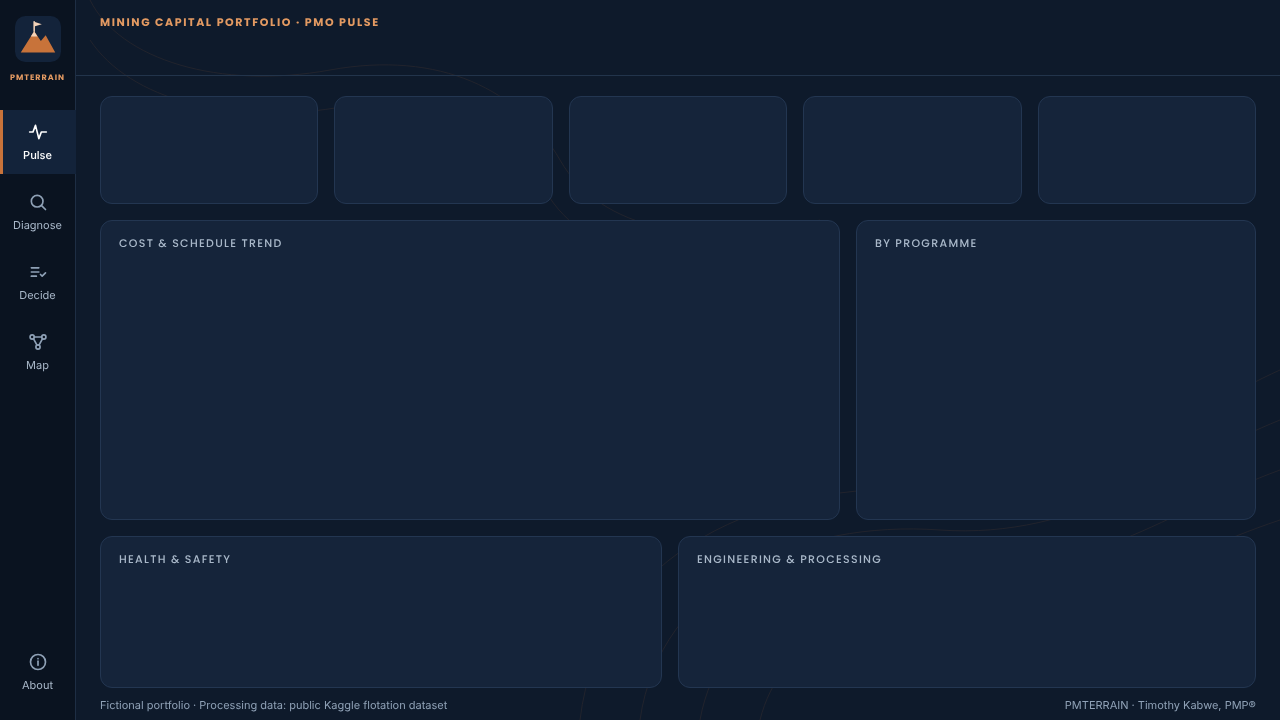

The page's visual inventory and layout, read from the dashboard file:
{"tool":"powerbi","page":{"name":"Pulse","canvas":[1280,720],"ordinal":0},"visuals":[{"type":"cardVisual","fields":{"Data":["Key_MeasuresPMO.TRIFR"]},"box":[805,96,219,108],"z":0},{"type":"cardVisual","fields":{"Data":["Key_MeasuresPMO.CPI"]},"box":[100,96,219,108],"z":1000},{"type":"cardVisual","fields":{"Data":["Key_MeasuresPMO.SPI"]},"box":[335,96,219,108],"z":2000},{"type":"cardVisual","fields":{"Data":["Key_MeasuresPMO.Forecast Overrun %"]},"box":[570,96,219,108],"z":3000},{"type":"cardVisual","fields":{"Data":["Key_MeasuresPMO.Overdue Mitigations"]},"box":[1040,96,216,108],"z":4000},{"type":"lineChart","title":"Schedule is recovering, but cost efficiency is stuck near 0.80","fields":{"Category":["Calendar.YearMonth"],"Y":["Key_MeasuresPMO.SPI","Key_MeasuresPMO.CPI"]},"box":[112,242,716,270],"z":5000},{"type":"clusteredBarChart","title":"Three programmes forecast ~29% overruns","fields":{"Category":["Dim_Project.Programme"],"Y":["Key_MeasuresPMO.Forecast Overrun %"]},"box":[868,242,376,270],"z":6000},{"type":"lineClusteredColumnComboChart","title":"Injury rate rising: TRIFR from ~11 to ~17 since late 2024","fields":{"Category":["Calendar.YearMonth"],"Y":["Key_MeasuresPMO.Recordable Injuries"],"Y2":["Key_MeasuresPMO.TRIFR"]},"box":[112,554,538,128],"z":7000},{"type":"cardVisual","fields":{"Data":["Key_MeasuresPMO.Breakdown Downtime (h)"]},"box":[690,564,178,112],"z":8000},{"type":"cardVisual","fields":{"Data":["Key_MeasuresPMO.Late PM Jobs"]},"box":[878,564,178,112],"z":9000},{"type":"cardVisual","fields":{"Data":["Key_MeasuresPMO.Avg Silica %"]},"box":[1066,564,178,112],"z":10000},{"type":"actionButton","box":[0,110,76,64],"z":11000},{"type":"actionButton","box":[0,180,76,64],"z":12000},{"type":"actionButton","box":[0,250,76,64],"z":13000},{"type":"actionButton","box":[0,640,76,64],"z":14000},{"type":"slicer","fields":{"Values":["Dim_Project.Programme"]},"box":[1062,14,190,50],"z":15000},{"type":"slicer","fields":{"Values":["Dim_Site.SiteName"]},"box":[856,14,190,50],"z":16000},{"type":"actionButton","box":[0,320,76,64],"z":17000},{"type":"actionButton","box":[500,540,150,28],"z":18000},{"type":"actionButton","box":[1094,540,150,28],"z":19000},{"type":"actionButton","box":[670,224,150,28],"z":20000}]}

Visuals, with their boxes on the page's 1280x720 design canvas (x1, y1, x2, y2). These are canvas units, not pixel positions in the 1280x720 screenshot, which may show the page scaled, cropped or inside an application window:
cardVisual - Key_MeasuresPMO.TRIFR: x1=805, y1=96, x2=1024, y2=204
cardVisual - Key_MeasuresPMO.CPI: x1=100, y1=96, x2=319, y2=204
cardVisual - Key_MeasuresPMO.SPI: x1=335, y1=96, x2=554, y2=204
cardVisual - Key_MeasuresPMO.Forecast Overrun %: x1=570, y1=96, x2=789, y2=204
cardVisual - Key_MeasuresPMO.Overdue Mitigations: x1=1040, y1=96, x2=1256, y2=204
"Schedule is recovering, but cost efficiency is stuck near 0.80" lineChart: x1=112, y1=242, x2=828, y2=512
"Three programmes forecast ~29% overruns" clusteredBarChart: x1=868, y1=242, x2=1244, y2=512
"Injury rate rising: TRIFR from ~11 to ~17 since late 2024" lineClusteredColumnComboChart: x1=112, y1=554, x2=650, y2=682
cardVisual - Key_MeasuresPMO.Breakdown Downtime (h): x1=690, y1=564, x2=868, y2=676
cardVisual - Key_MeasuresPMO.Late PM Jobs: x1=878, y1=564, x2=1056, y2=676
cardVisual - Key_MeasuresPMO.Avg Silica %: x1=1066, y1=564, x2=1244, y2=676
actionButton: x1=0, y1=110, x2=76, y2=174
actionButton: x1=0, y1=180, x2=76, y2=244
actionButton: x1=0, y1=250, x2=76, y2=314
actionButton: x1=0, y1=640, x2=76, y2=704
slicer - Dim_Project.Programme: x1=1062, y1=14, x2=1252, y2=64
slicer - Dim_Site.SiteName: x1=856, y1=14, x2=1046, y2=64
actionButton: x1=0, y1=320, x2=76, y2=384
actionButton: x1=500, y1=540, x2=650, y2=568
actionButton: x1=1094, y1=540, x2=1244, y2=568
actionButton: x1=670, y1=224, x2=820, y2=252
